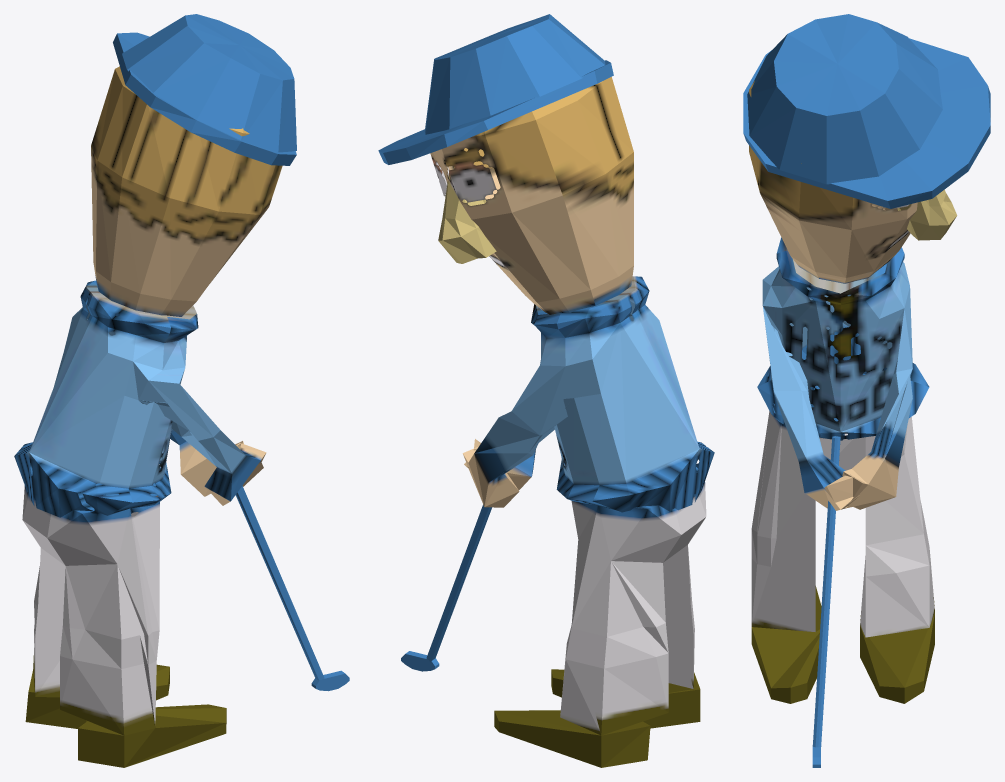
The model's file is PipGolf.glb.
3 views of the same model, side by side, from view 1: azimuth 30°, elevation 25°; view 2: azimuth 150°, elevation 25°; view 3: azimuth 270°, elevation 25° (orthographic).
Parts seen in each view (by area): view 1: PipGolf; view 2: PipGolf; view 3: PipGolf.
Part boxes in pixels (bbox=[...]): PipGolf: bbox=[14, 14, 349, 767]; PipGolf: bbox=[378, 14, 714, 767]; PipGolf: bbox=[743, 14, 990, 767].
Bounding box in the file's own units: 54.61 × 117 × 37.84.
1 material, 1 textured.
